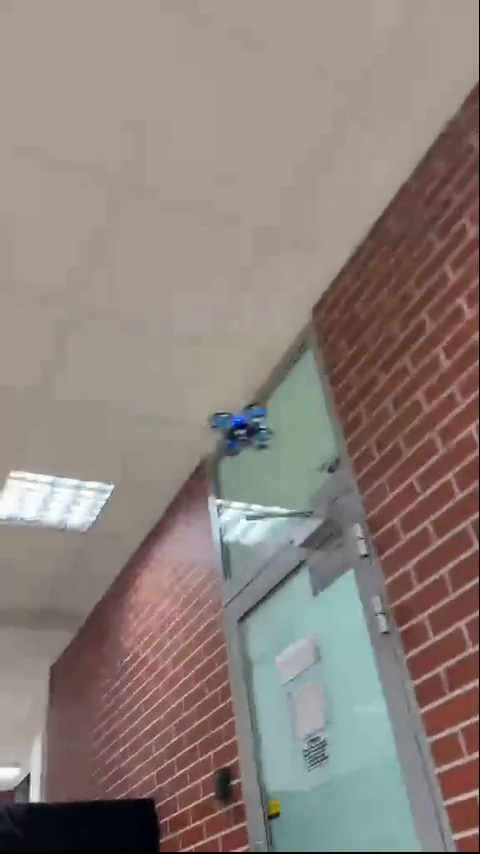drone: (213, 399, 274, 457)
